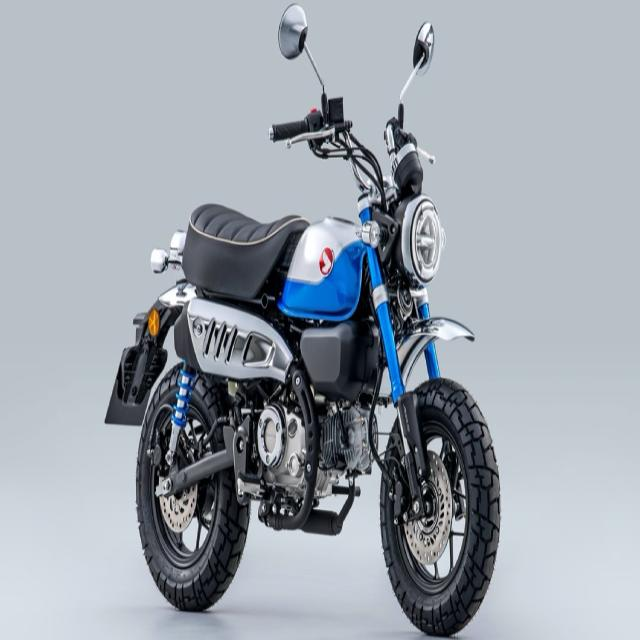Bike: (105, 5, 503, 638)
